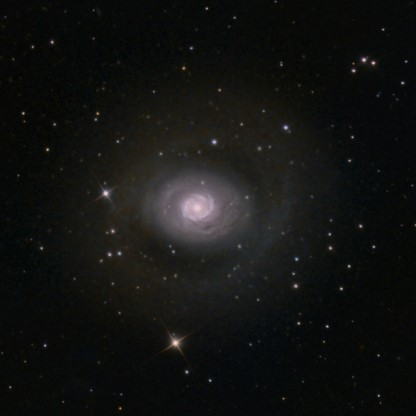Messier 94: (99, 111, 303, 309)
